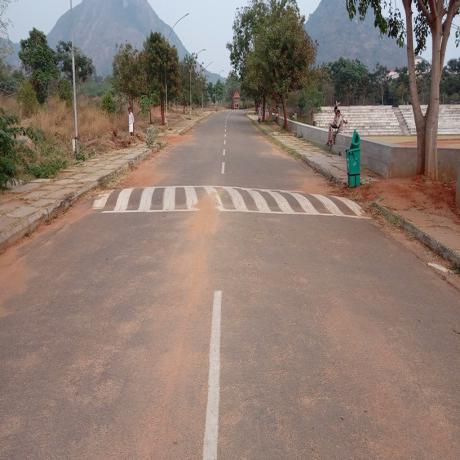Speed Bump: (90, 177, 370, 216)
